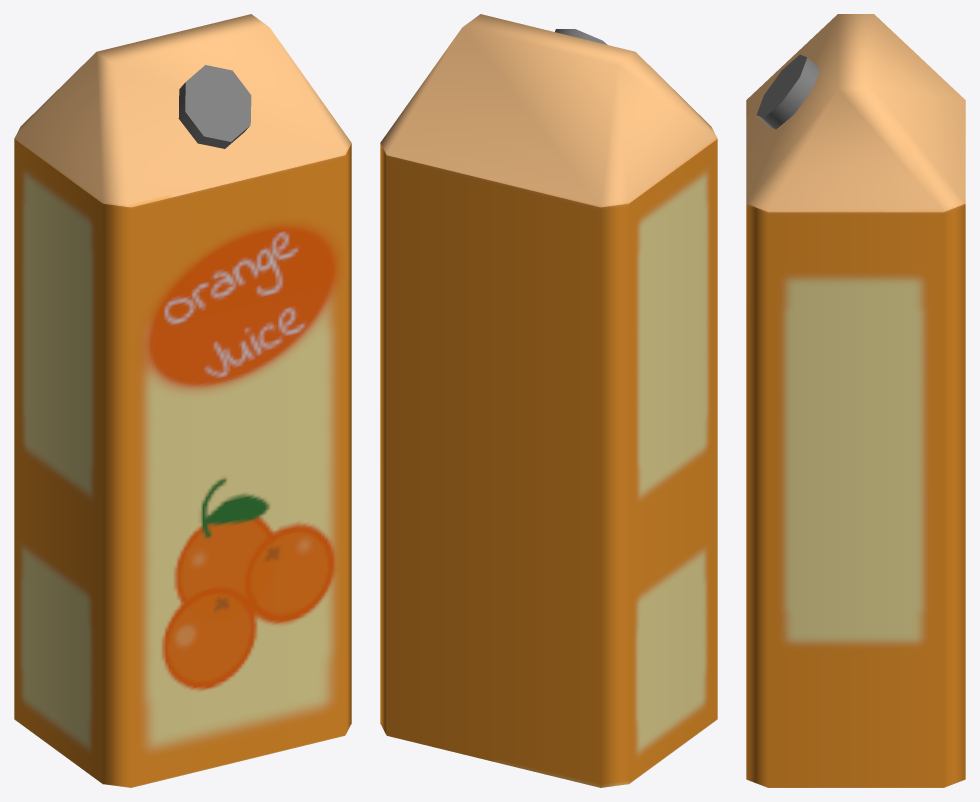
The model's file is Orange_Juice.fbx.
3 renders of one model, left to right at view 1: azimuth 30°, elevation 25°; view 2: azimuth 150°, elevation 25°; view 3: azimuth 270°, elevation 25°, orthographic.
Visible parts, largest first — view 1: Orange_Juice; view 2: Orange_Juice; view 3: Orange_Juice.
Part boxes in pixels (x1,y1,x2,y2): Orange_Juice: (14, 14, 351, 787); Orange_Juice: (380, 14, 717, 787); Orange_Juice: (746, 14, 965, 787).
Bounding box in the file's own units: 9.88 × 25.84 × 7.6.
